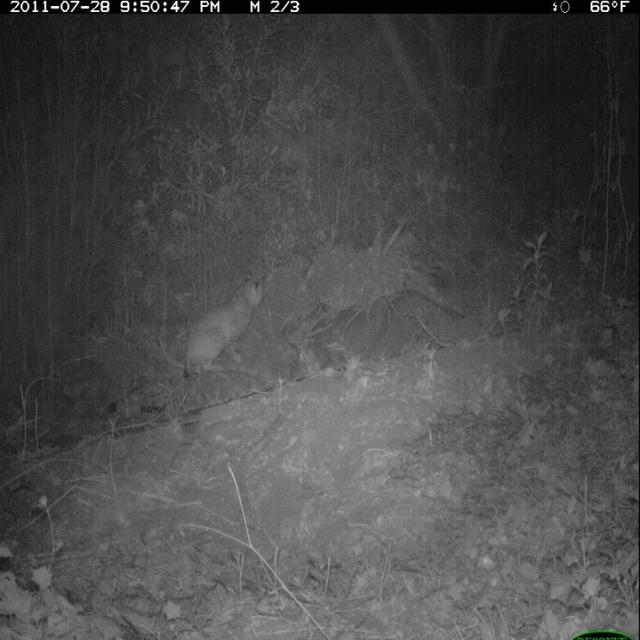bobcat: (179, 266, 275, 385)
